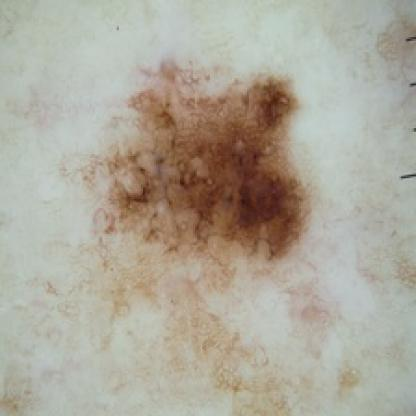malignant: (108, 60, 327, 268)
